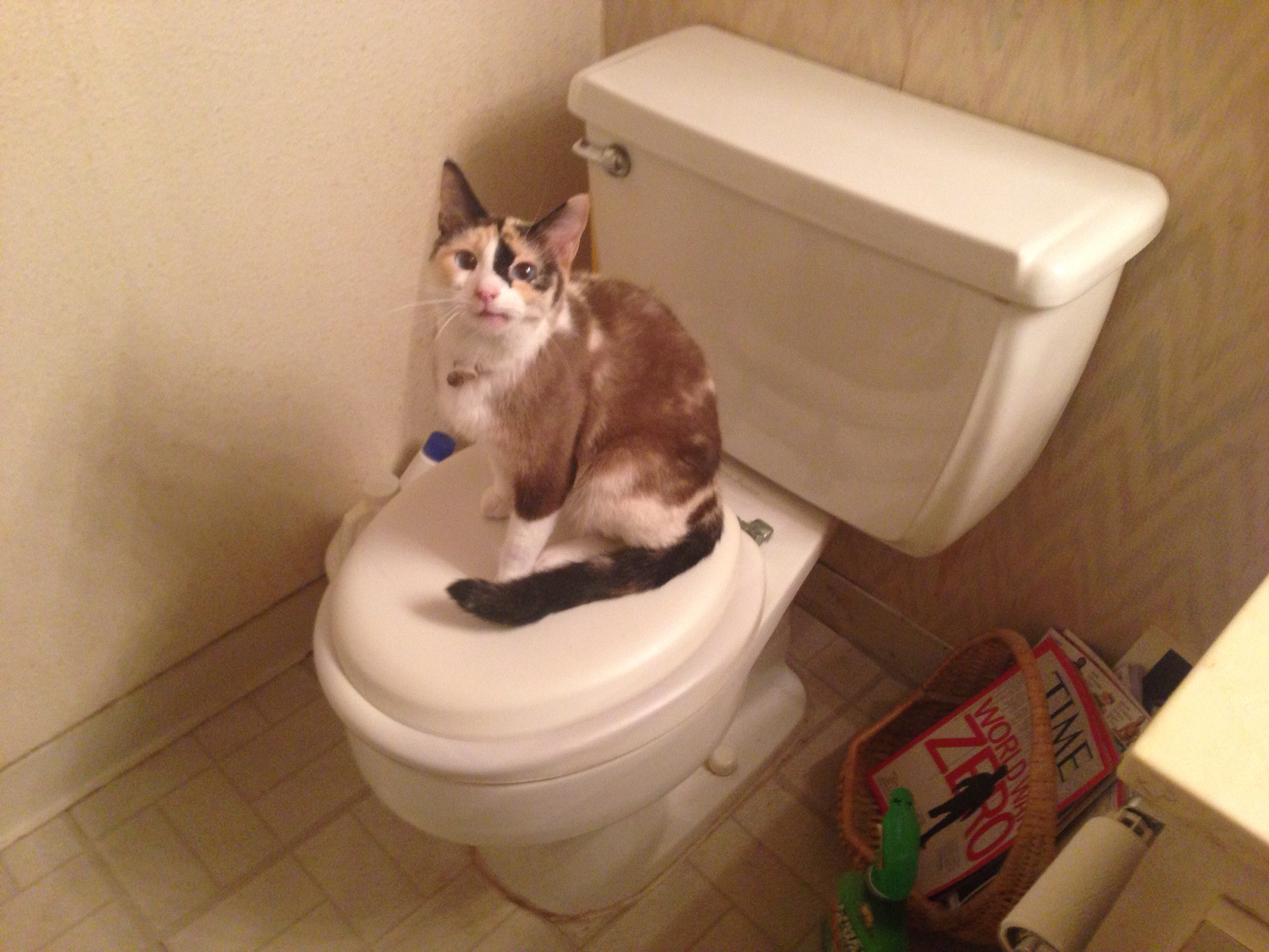cat: (378, 151, 735, 626)
